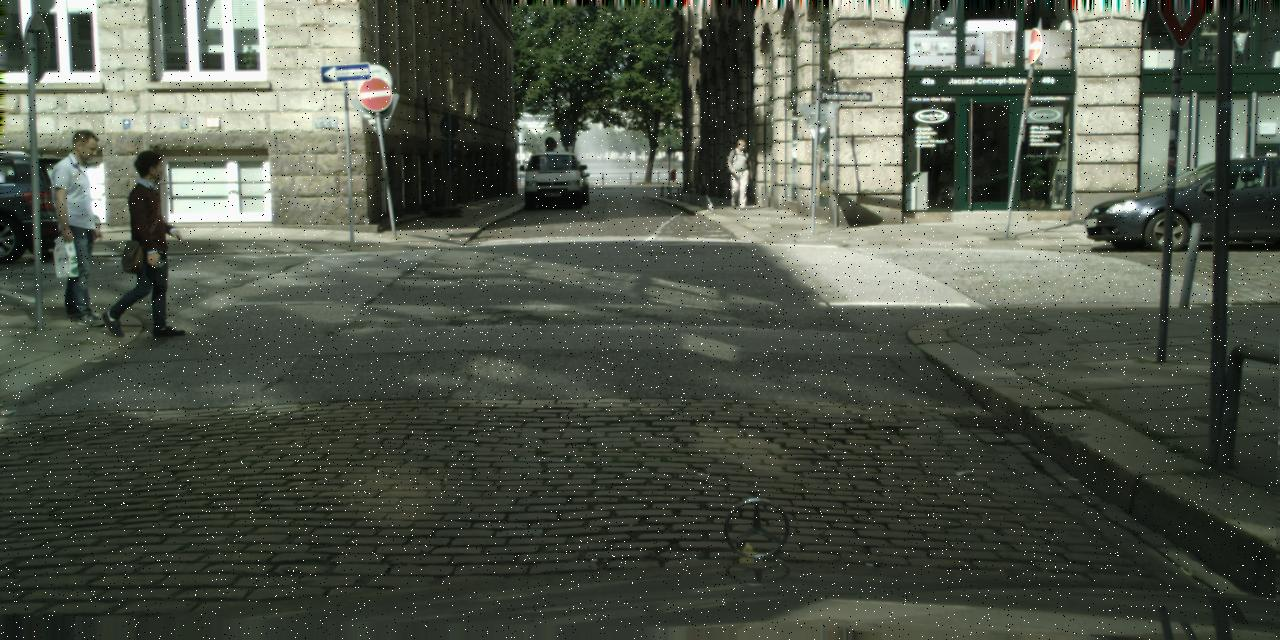ped: (43, 128, 123, 322), (106, 150, 182, 336), (725, 138, 753, 208)
